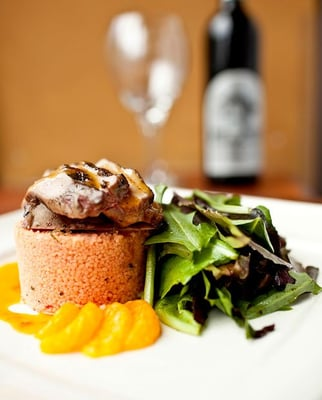soup: (13, 158, 165, 317)
